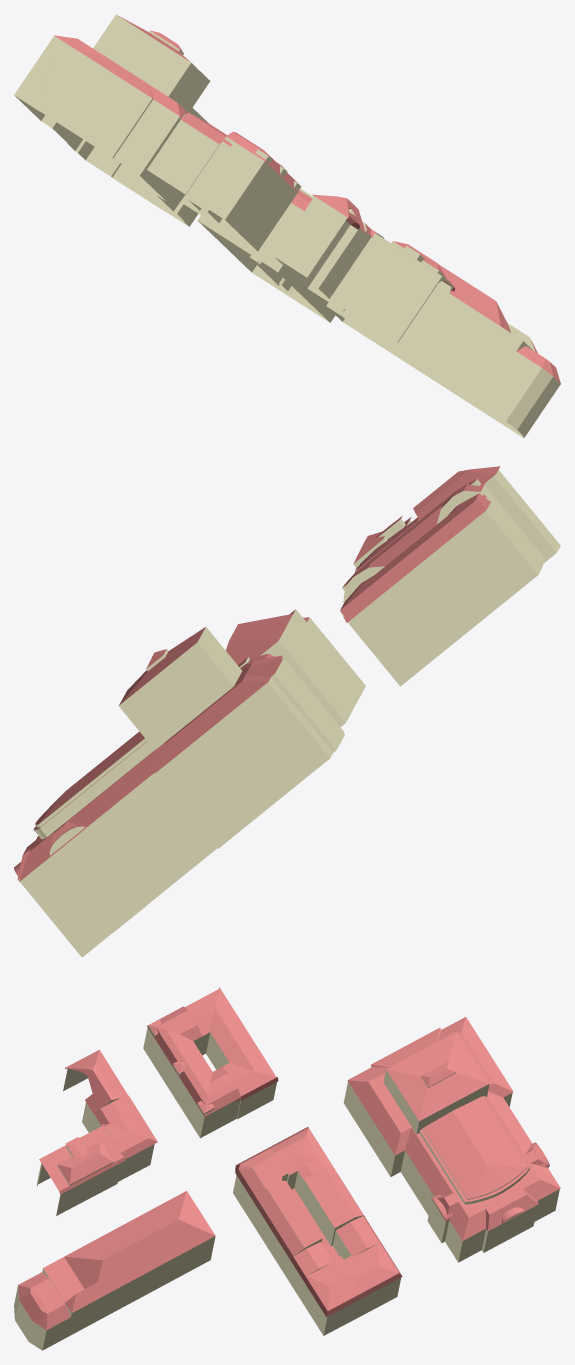
The model's file is tile_051.glb.
3 views of the same model, one above another, from view 1: azimuth 30°, elevation 25°; view 2: azimuth 150°, elevation 25°; view 3: azimuth 270°, elevation 25° (orthographic). The views are drawn at different scales.
Visible parts, largest first — view 1: Batched_Building_ID_66EF4FE5-09E2-418E-8ADA-D419FC856383; view 2: Batched_Building_ID_66EF4FE5-09E2-418E-8ADA-D419FC856383; view 3: Batched_Building_ID_66EF4FE5-09E2-418E-8ADA-D419FC856383.
Part boxes in pixels (x1,y1,x2,y2): Batched_Building_ID_66EF4FE5-09E2-418E-8ADA-D419FC856383: [14, 14, 560, 437]; Batched_Building_ID_66EF4FE5-09E2-418E-8ADA-D419FC856383: [14, 466, 560, 957]; Batched_Building_ID_66EF4FE5-09E2-418E-8ADA-D419FC856383: [14, 987, 560, 1350].
Bounding box in the file's own units: 114 × 107 × 199.
